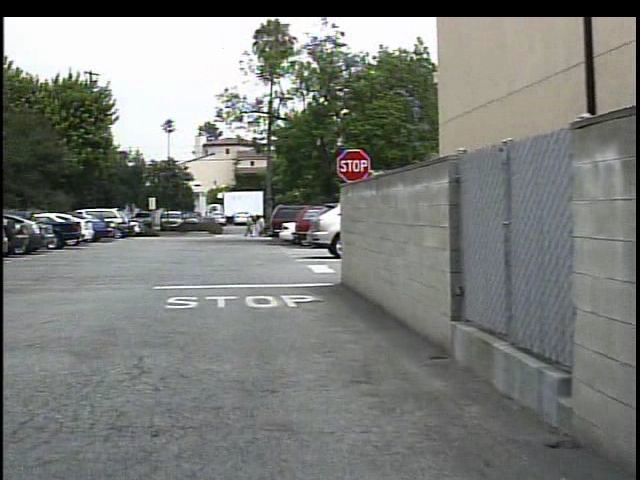person: (237, 214, 252, 241), (249, 214, 262, 240)
